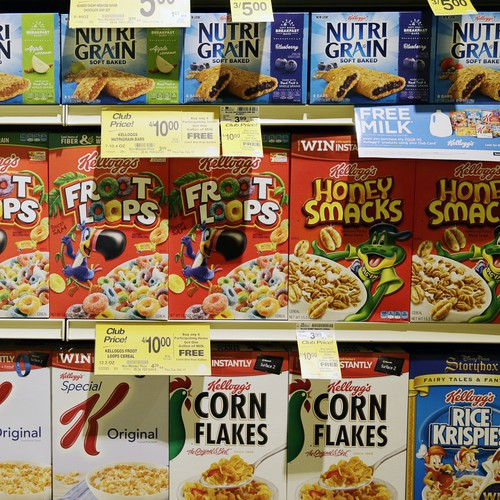cereal: (289, 138, 409, 321), (46, 135, 164, 319), (171, 137, 288, 318), (287, 359, 410, 500), (52, 354, 167, 500), (171, 356, 287, 500), (411, 141, 500, 322), (413, 361, 500, 500)
